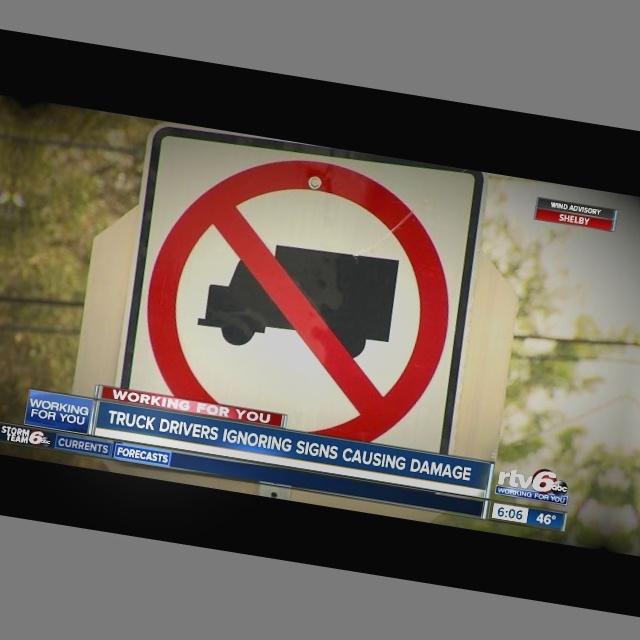Truck_Prohibited: (135, 145, 468, 437)
